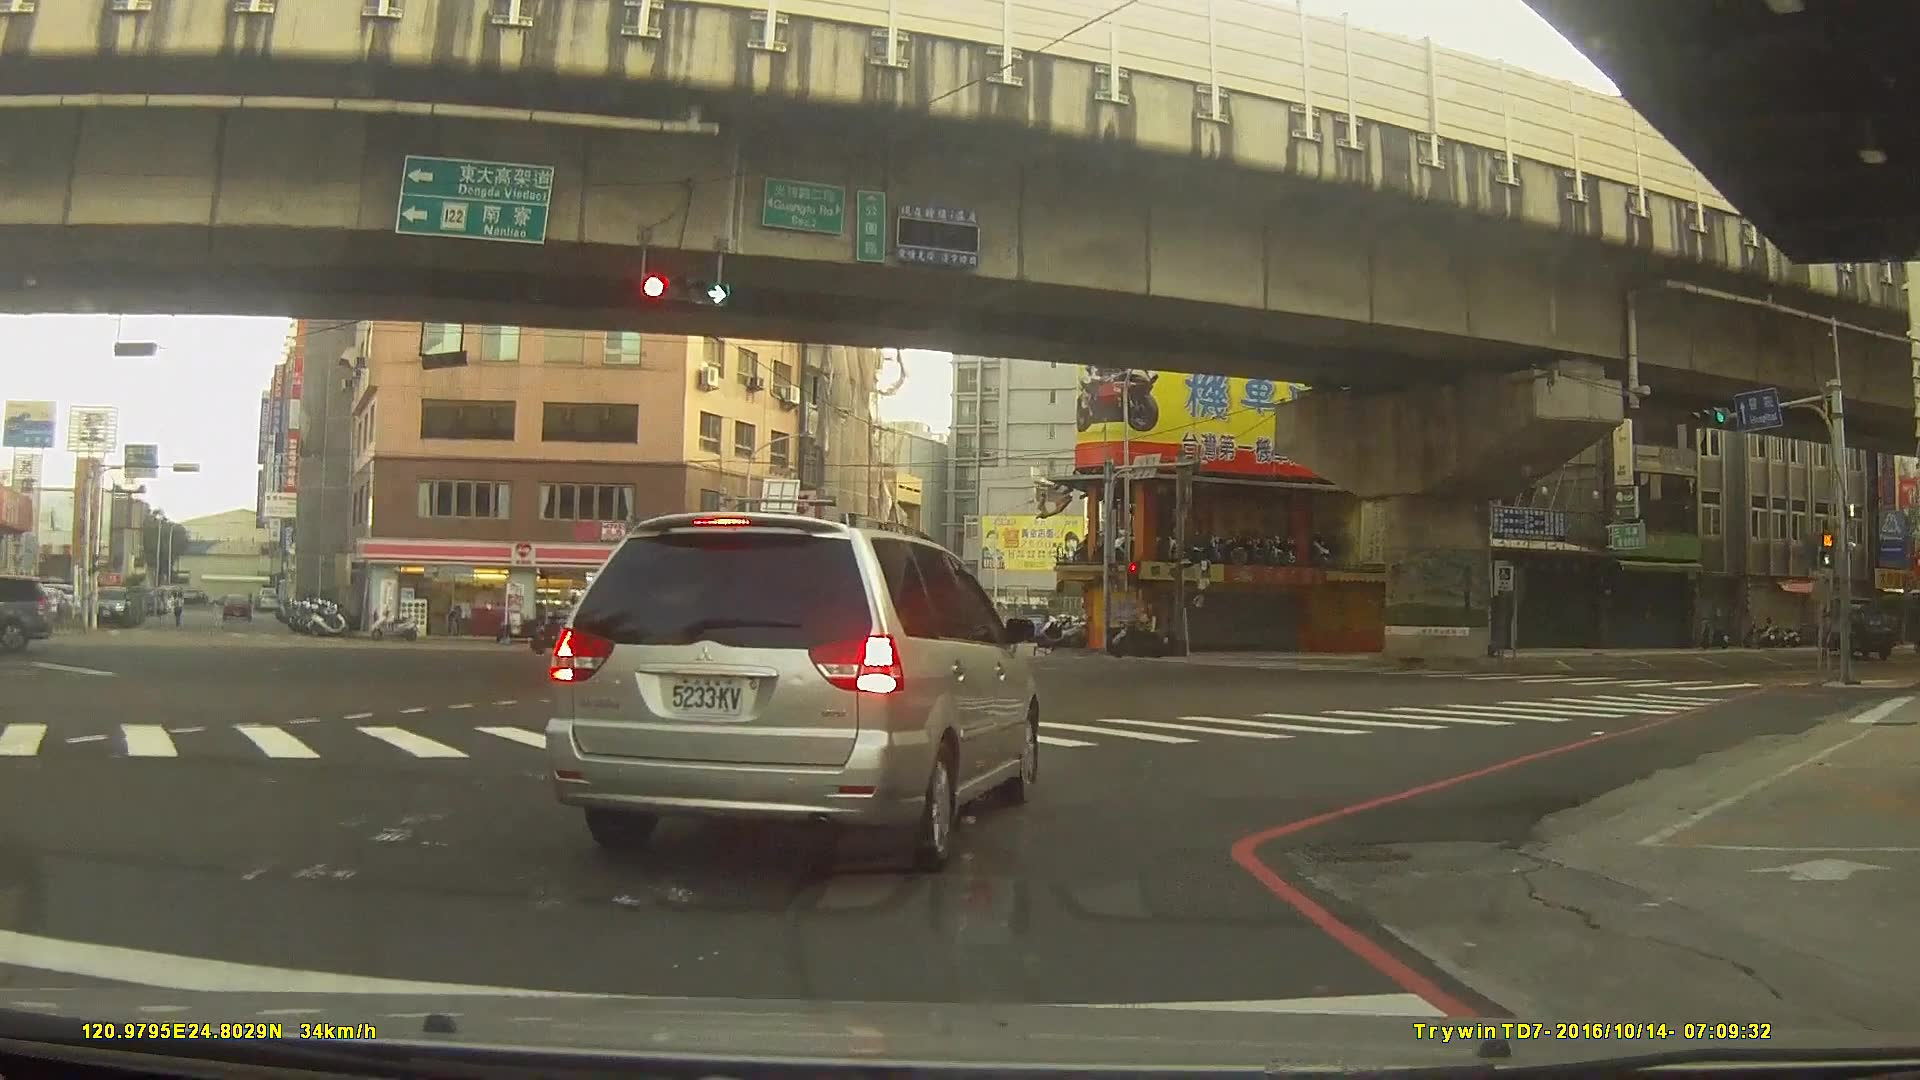rider: (1112, 601, 1170, 659)
vehicle: (542, 510, 1040, 871), (1815, 593, 1893, 660), (0, 571, 54, 654), (871, 623, 938, 662), (85, 584, 128, 629), (543, 606, 605, 633), (215, 591, 251, 622)
